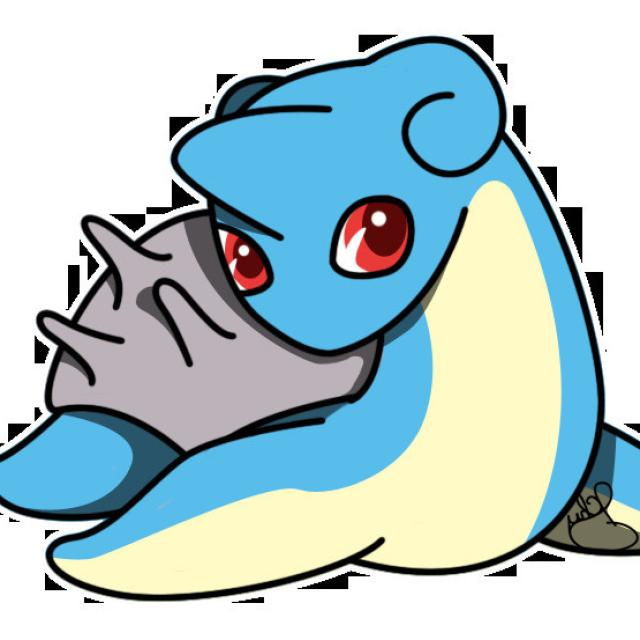Lapras: (0, 34, 640, 603)
